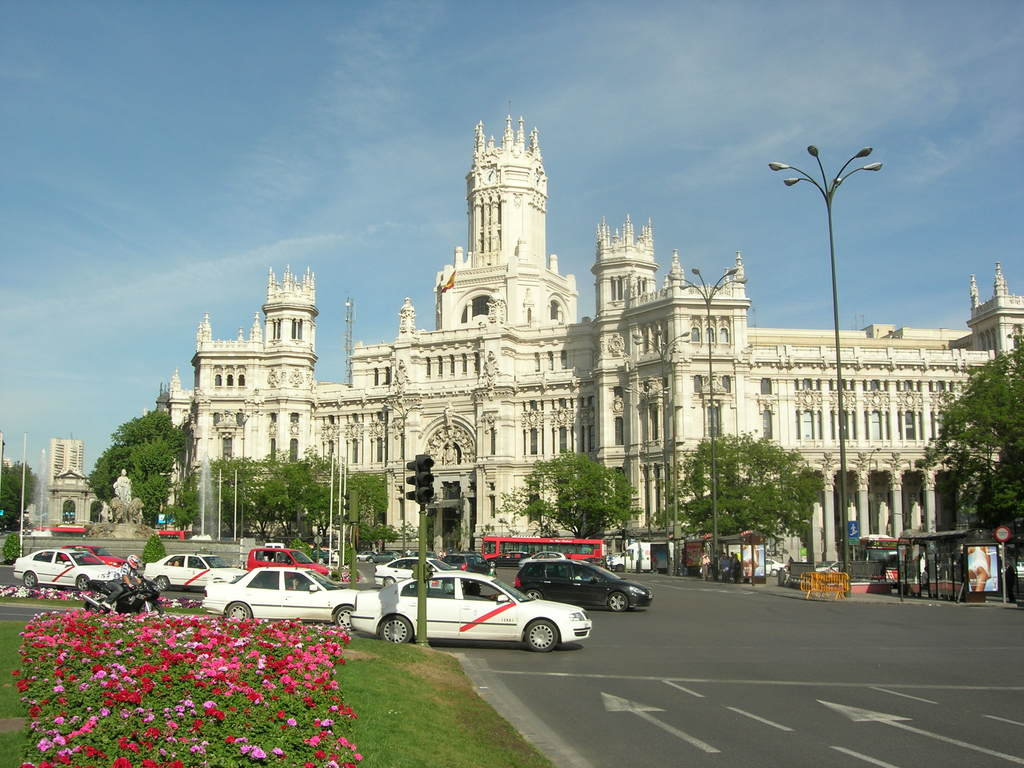Car: (360, 572, 633, 653), (196, 568, 362, 627), (507, 556, 654, 609), (11, 542, 130, 593), (375, 550, 455, 588), (152, 517, 202, 542), (437, 553, 487, 576), (72, 546, 122, 563)
